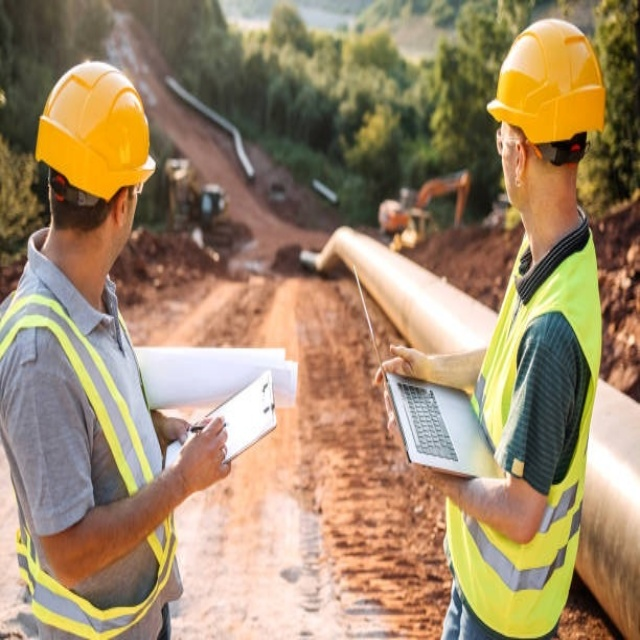Gafas: (492, 122, 543, 163)
Sin_guantes: (174, 416, 233, 497), (375, 337, 430, 384)
